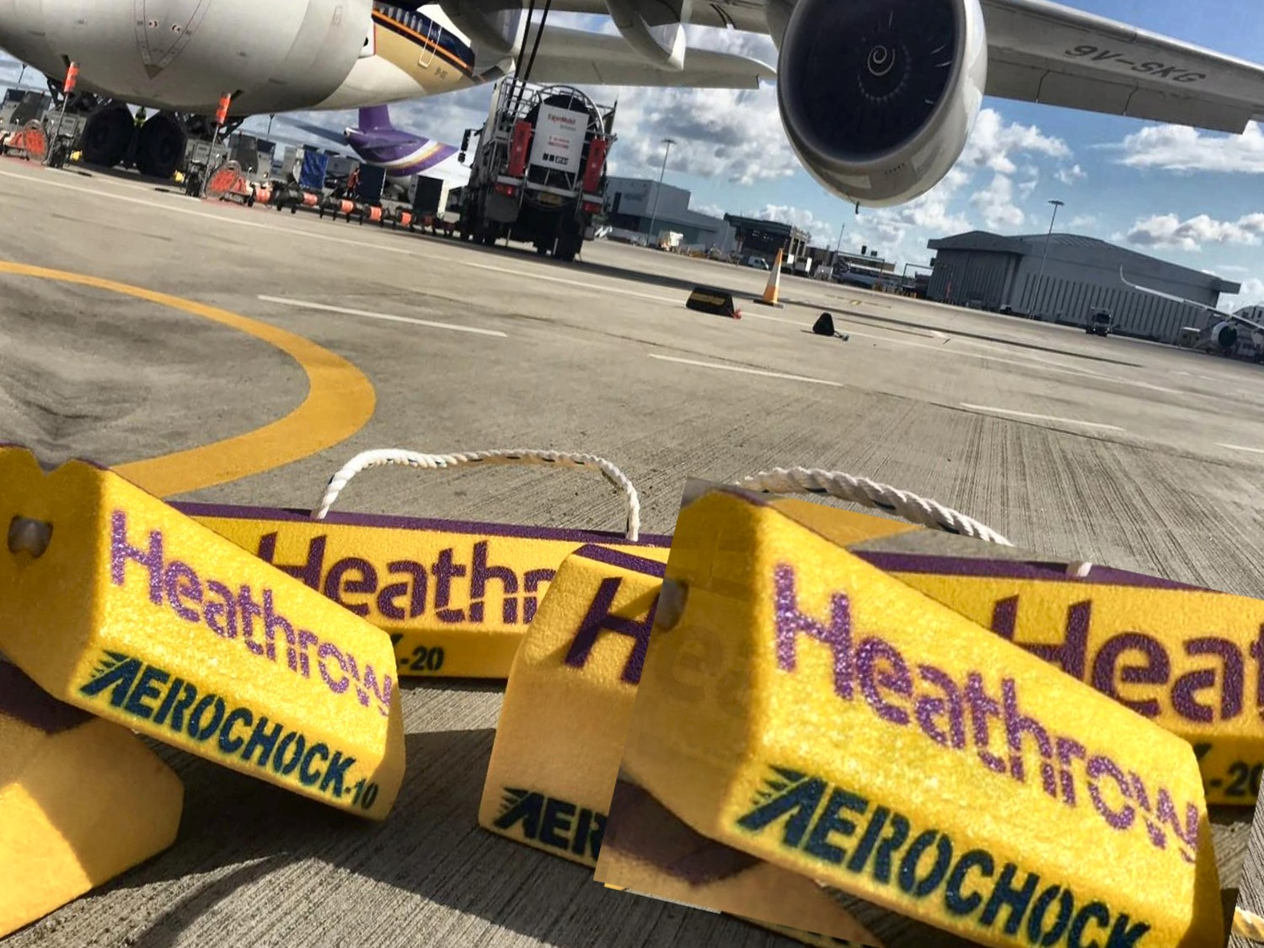chock: (446, 521, 1264, 948), (591, 474, 1264, 948), (114, 409, 815, 772), (0, 448, 467, 830), (0, 663, 211, 948), (604, 731, 756, 915)
